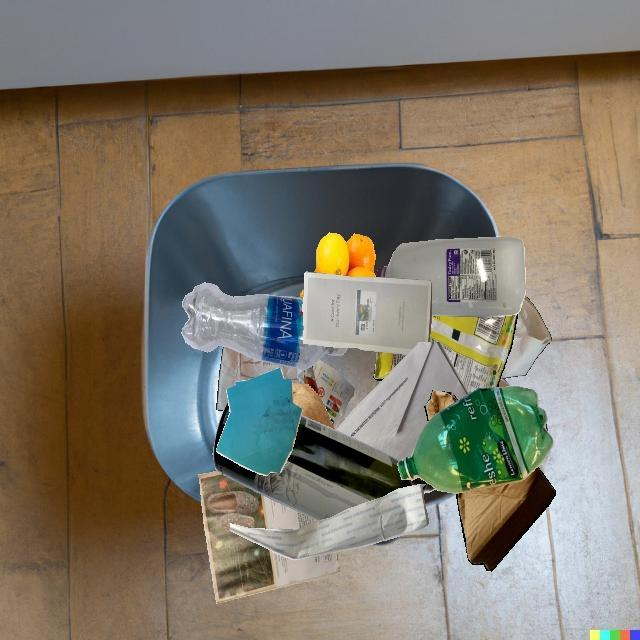biowaste: (314, 232, 376, 277), (292, 383, 335, 430)
cardboard: (456, 467, 556, 571), (498, 379, 510, 387)
glass: (212, 401, 412, 521), (412, 477, 436, 493)
paper: (199, 471, 339, 603), (336, 342, 469, 462), (230, 484, 429, 560), (302, 271, 432, 355), (216, 368, 303, 476), (216, 346, 305, 410), (500, 296, 552, 387), (304, 360, 354, 430)
plastic: (397, 386, 553, 494), (182, 283, 347, 370), (376, 237, 526, 317)
trash: (429, 313, 518, 394)
